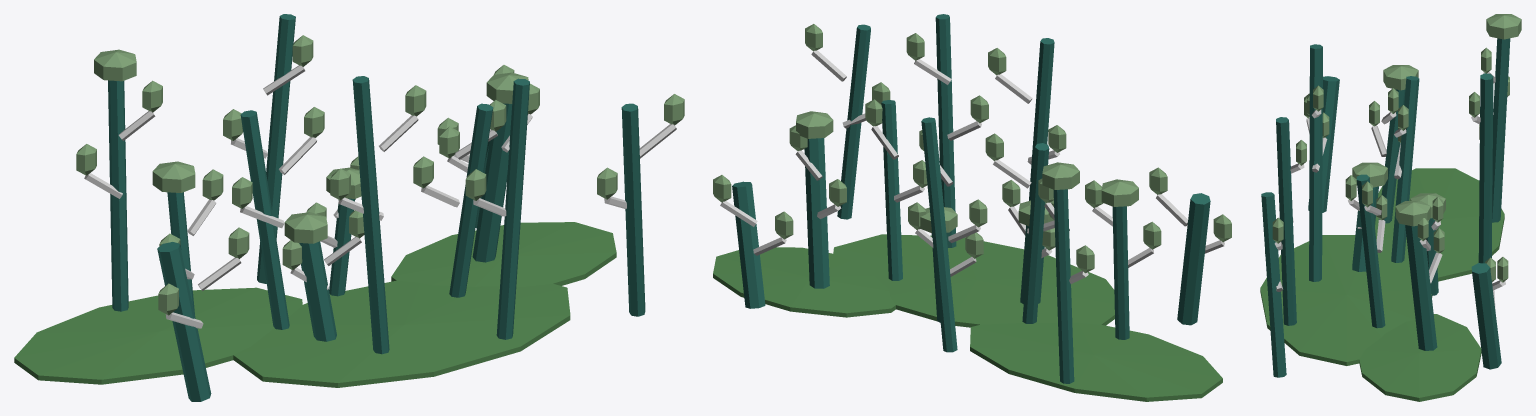
Rendered from filter_grove_b.obj.
3 renders of one model, left to right at view 1: azimuth 30°, elevation 25°; view 2: azimuth 150°, elevation 25°; view 3: azimuth 270°, elevation 25°, orthographic. The views are drawn at different scales.
Parts seen in each view (by area): view 1: substrate_1, substrate_0, substrate_2, stem_5, stem_10, stem_6, stem_11, stem_2, stem_8, stem_1, stem_7, stem_12 (+7 smaller); view 2: substrate_0, substrate_1, substrate_2, stem_1, stem_6, stem_12, stem_8, stem_10, stem_2, stem_7, stem_11, stem_4 (+7 smaller); view 3: substrate_1, substrate_2, substrate_0, stem_5, stem_10, stem_1, stem_2, stem_12, stem_6, stem_11, stem_4, stem_7 (+22 smaller).
Boxes of the visible parts, bbox=[...] form: substrate_1: bbox=[233, 280, 570, 387]; substrate_0: bbox=[14, 287, 302, 384]; substrate_2: bbox=[391, 222, 616, 286]; stem_5: bbox=[352, 76, 389, 354]; stem_10: bbox=[496, 78, 529, 339]; stem_6: bbox=[108, 80, 128, 311]; stem_11: bbox=[240, 110, 289, 329]; stem_2: bbox=[621, 103, 645, 316]; stem_8: bbox=[157, 242, 211, 401]; stem_1: bbox=[257, 14, 295, 283]; stem_7: bbox=[449, 103, 493, 297]; stem_12: bbox=[472, 103, 512, 262]; substrate_0: bbox=[970, 322, 1222, 401]; substrate_1: bbox=[833, 234, 1114, 327]; substrate_2: bbox=[713, 247, 895, 317]; stem_1: bbox=[921, 117, 957, 352]; stem_6: bbox=[1053, 189, 1074, 383]; stem_12: bbox=[804, 138, 829, 288]; stem_8: bbox=[1177, 193, 1210, 325]; stem_10: bbox=[935, 14, 956, 247]; stem_2: bbox=[837, 24, 870, 219]; stem_7: bbox=[881, 100, 902, 280]; stem_11: bbox=[1022, 143, 1049, 323]; stem_4: bbox=[732, 181, 765, 308]; substrate_1: bbox=[1260, 235, 1432, 365]; substrate_2: bbox=[1359, 314, 1481, 401]; substrate_0: bbox=[1375, 168, 1504, 281]; stem_5: bbox=[1309, 44, 1322, 281]; stem_10: bbox=[1276, 117, 1296, 325]; stem_1: bbox=[1478, 73, 1493, 263]; stem_2: bbox=[1261, 192, 1286, 377]; stem_12: bbox=[1405, 225, 1437, 350]; stem_6: bbox=[1492, 38, 1510, 222]; stem_11: bbox=[1391, 76, 1419, 262]; stem_4: bbox=[1471, 263, 1501, 369]; stem_7: bbox=[1356, 174, 1385, 328].
Size of the model in its own units: 6.73 by 3.18 by 3.24.
